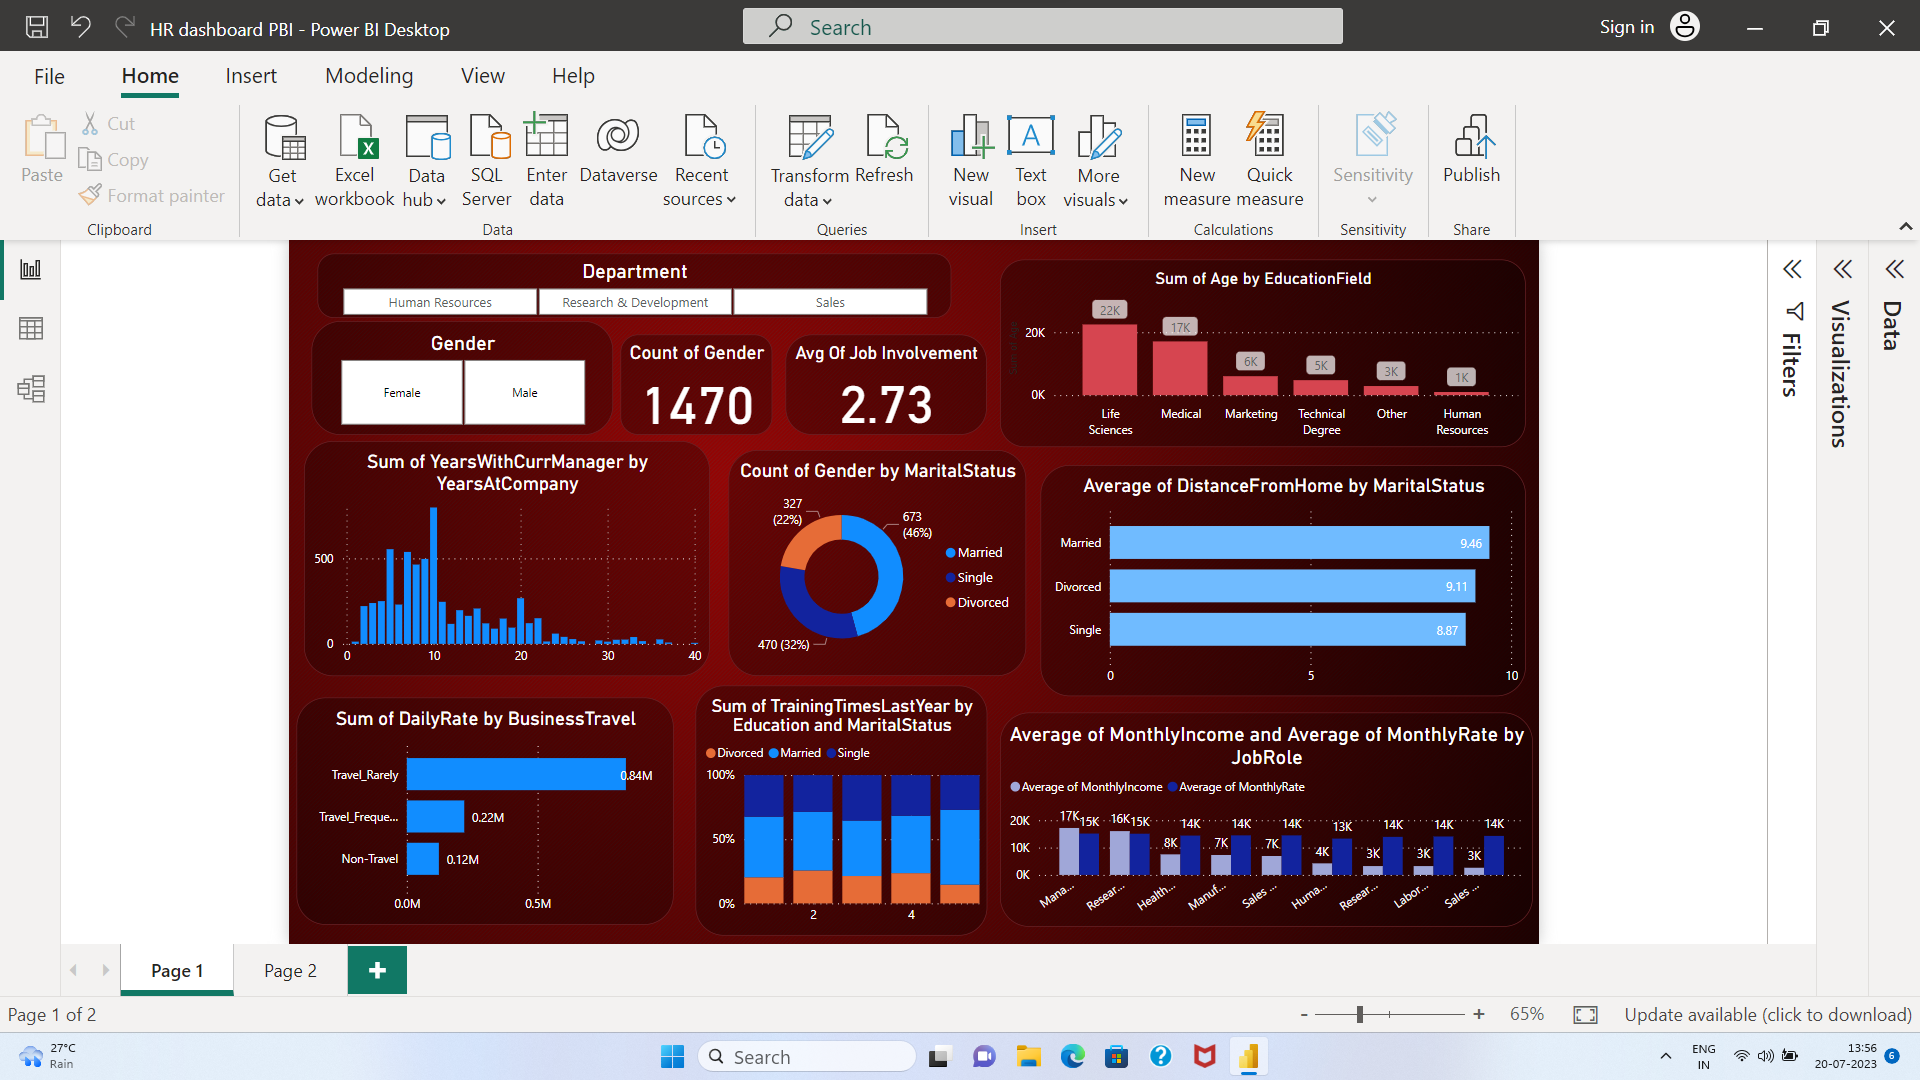

Layout of this report page (visuals, bound fields, positions):
{"tool":"powerbi","page":{"name":"Page 1","canvas":[1280,720],"ordinal":0},"visuals":[{"type":"card","title":"Count of Gender","fields":{"Values":["CountNonNull(data.Gender)"]},"box":[339.7,97.1,155.3,102.9],"z":0},{"type":"slicer","title":"Gender","fields":{"Values":["data.Gender"]},"box":[23.3,83.5,308.7,116.5],"z":1000},{"type":"donutChart","fields":{"Category":["data.MaritalStatus"],"Y":["CountNonNull(data.Gender)"]},"box":[450.4,215.5,304.8,231],"z":2000},{"type":"clusteredColumnChart","fields":{"Category":["data.JobRole"],"Y":["Avg(data.MonthlyIncome)","Avg(data.MonthlyRate)"]},"box":[728,483.4,545.5,219.4],"z":3000},{"type":"slicer","title":"Department","fields":{"Values":["data.Department"]},"box":[29.1,13.6,648.4,66],"z":4000},{"type":"card","title":"Avg Of Job Involvement","fields":{"Values":["Avg(data.JobInvolvement)"]},"box":[508.6,97.1,205.8,102.9],"z":5000},{"type":"lineStackedColumnComboChart","fields":{"Category":["data.EducationField"],"Y":["Sum(data.Age)"]},"box":[728,19.4,537.8,192.2],"z":6000},{"type":"clusteredColumnChart","fields":{"Y":["Sum(data.YearsWithCurrManager)"],"Category":["data.YearsAtCompany"]},"box":[15.5,205.8,415.5,240.7],"z":7000},{"type":"clusteredBarChart","fields":{"Category":["data.BusinessTravel"],"Y":["Sum(data.DailyRate)"]},"box":[7.8,467.9,386.3,233],"z":8000},{"type":"barChart","fields":{"Y":["Avg(data.DistanceFromHome)"],"Category":["data.MaritalStatus"]},"box":[768.8,231,497,236.8],"z":9000},{"type":"hundredPercentStackedColumnChart","fields":{"Category":["data.Education"],"Y":["Sum(data.TrainingTimesLastYear)"],"Series":["data.MaritalStatus"]},"box":[415.5,456.2,299,256.3],"z":10000}]}

Visuals, with their boxes on the page's 1280x720 design canvas (x1, y1, x2, y2). These are canvas units, not pixel positions in the 1920x1080 screenshot, which may show the page scaled, cropped or inside an application window:
"Count of Gender" card: 340 97 495 200
"Gender" slicer: 23 84 332 200
donutChart - data.MaritalStatus x CountNonNull(data.Gender): 450 216 755 446
clusteredColumnChart - data.JobRole x Avg(data.MonthlyIncome): 728 483 1274 703
"Department" slicer: 29 14 678 80
"Avg Of Job Involvement" card: 509 97 714 200
lineStackedColumnComboChart - data.EducationField x Sum(data.Age): 728 19 1266 212
clusteredColumnChart - Sum(data.YearsWithCurrManager) x data.YearsAtCompany: 16 206 431 446
clusteredBarChart - data.BusinessTravel x Sum(data.DailyRate): 8 468 394 701
barChart - Avg(data.DistanceFromHome) x data.MaritalStatus: 769 231 1266 468
hundredPercentStackedColumnChart - data.Education x Sum(data.TrainingTimesLastYear): 416 456 714 712
